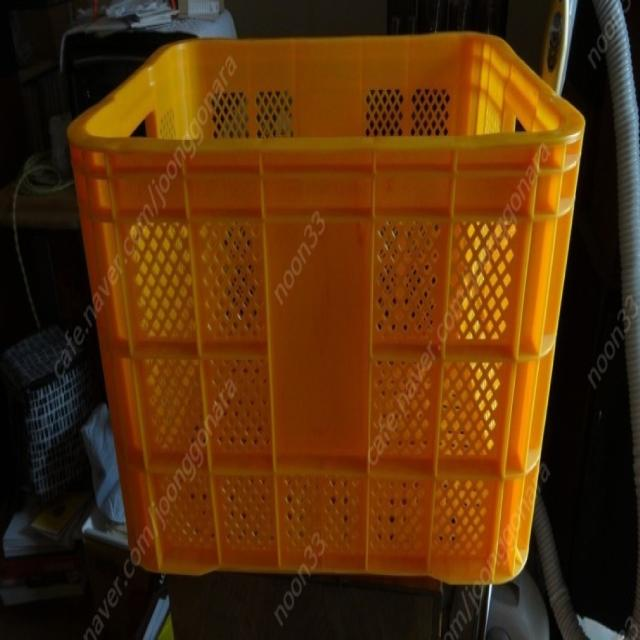basket: (69, 33, 584, 582)
